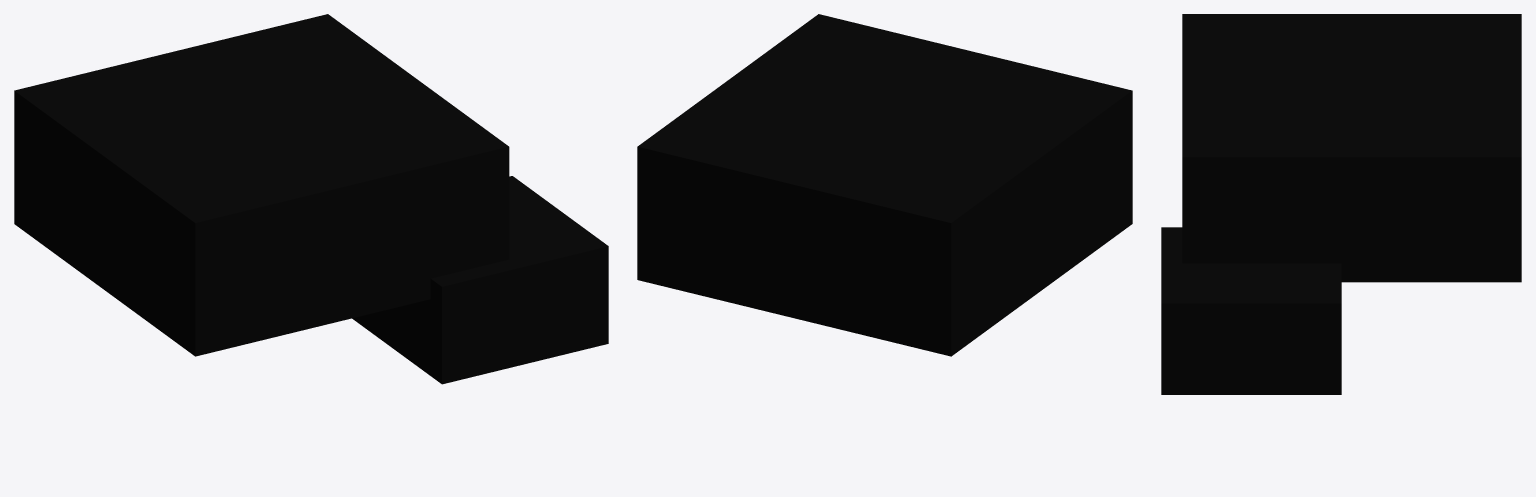
Rendered from mushroom.gltf.
The picture shows the model from 3 angles, left to right: view 1: azimuth 30°, elevation 25°; view 2: azimuth 150°, elevation 25°; view 3: azimuth 270°, elevation 25°; orthographic projection. The views are drawn at different scales.
Parts seen in each view (by area): view 1: cap_a, cap_b; view 2: cap_a; view 3: cap_a, cap_b.
Part boxes in pixels (x1,y1,x2,y2): cap_a: [14, 14, 509, 356]; cap_b: [352, 176, 608, 384]; cap_a: [637, 14, 1132, 356]; cap_a: [1182, 14, 1521, 282]; cap_b: [1161, 227, 1341, 394].
Bounding box in the file's own units: 0.5125 × 0.4313 × 0.425.
3 materials, 3 textured.
